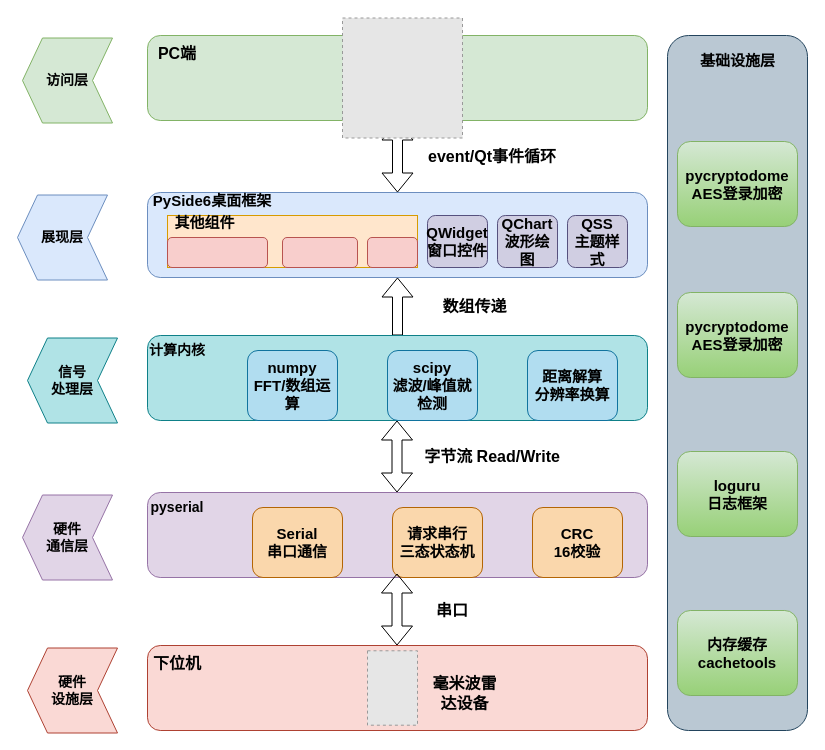
This 825x750 diagram has some shape labels left out. Grey dashed boxes stand in for pictures. Each missing label, with the centre of its shape:
"Fluent弹窗" goes at [320,252].
"InfoBar" goes at [392,252].
"qfluentwidgets" goes at [217,252].
